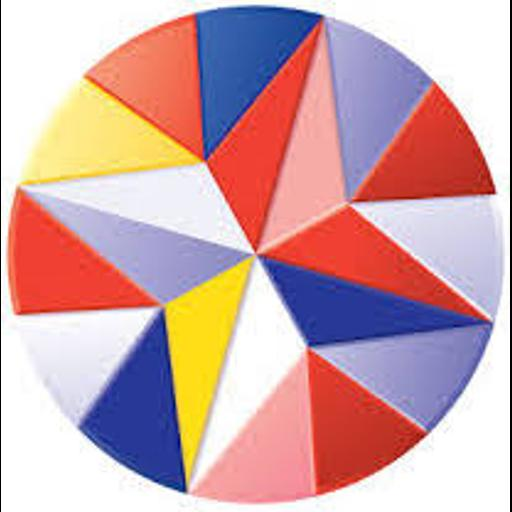SNS Bank N-V: (1, 0, 510, 512)
